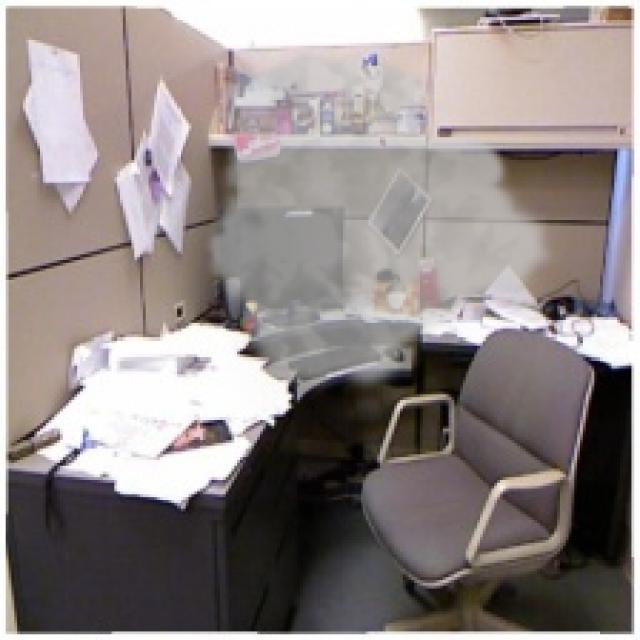smoke: (203, 46, 557, 400)
